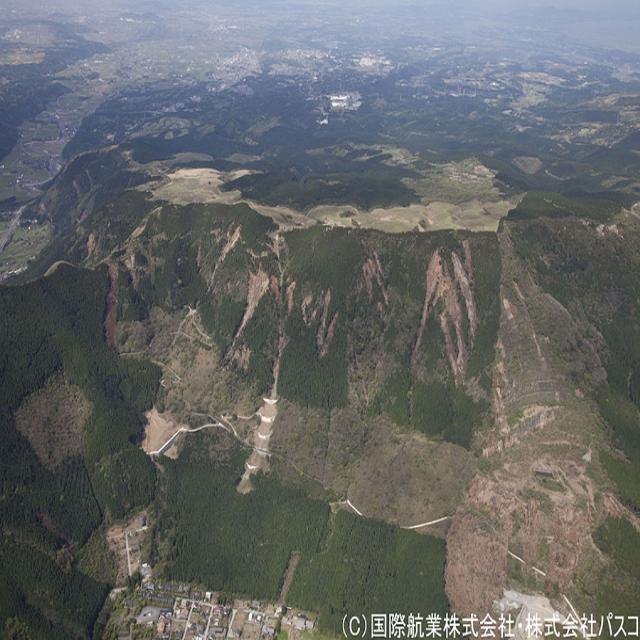Debris-flow: (4, 202, 640, 615), (421, 240, 480, 374), (15, 375, 95, 470)
